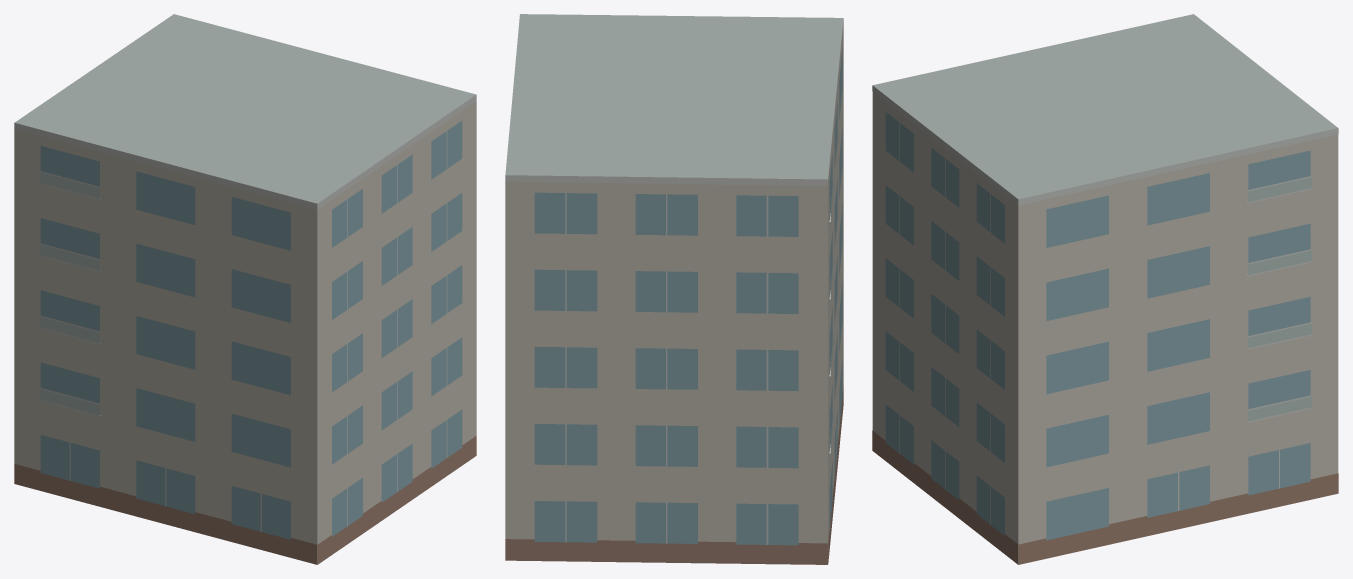
The model's file is survey-upis-32894156.glb.
3 renders of one model, left to right at view 1: azimuth 30°, elevation 25°; view 2: azimuth 150°, elevation 25°; view 3: azimuth 270°, elevation 25°, orthographic. The views are drawn at different scales.
Visible parts, largest first — view 1: survey-upis-32894156.tmp; view 2: survey-upis-32894156.tmp; view 3: survey-upis-32894156.tmp.
Boxes of the visible parts, left/top/right/bottom form: survey-upis-32894156.tmp: left=14, top=14, right=476, bottom=564; survey-upis-32894156.tmp: left=505, top=14, right=843, bottom=564; survey-upis-32894156.tmp: left=872, top=14, right=1338, bottom=564.
Size of the model in its own units: 15.78 by 14.5 by 16.76.
